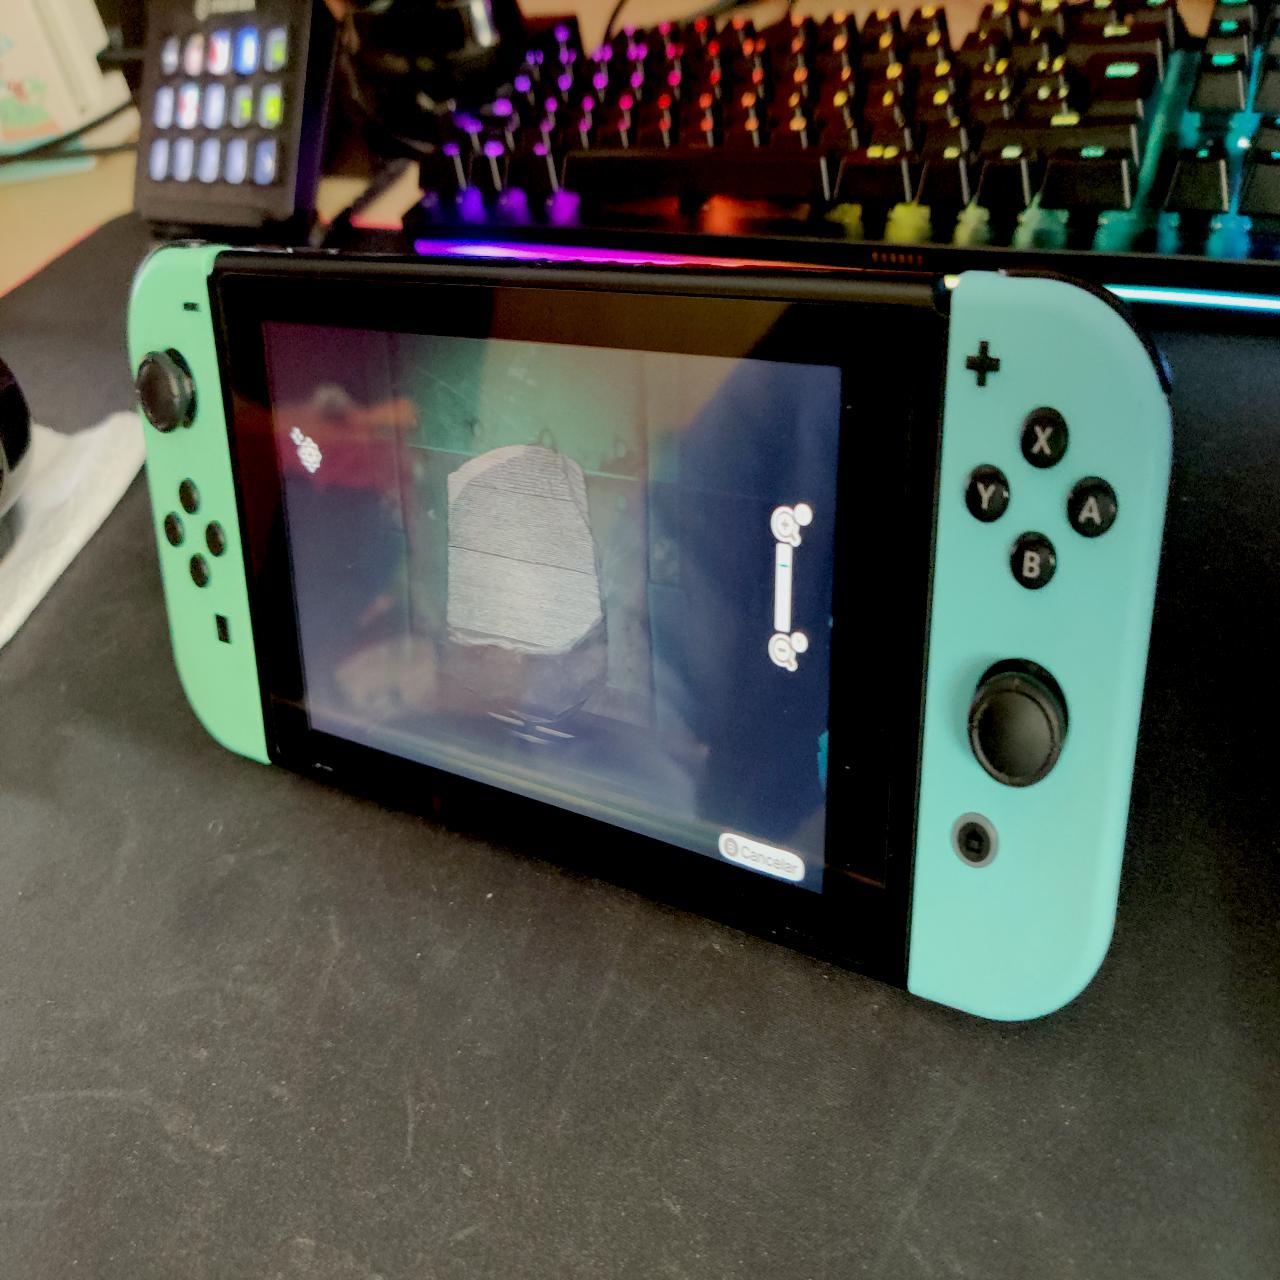RosettaStone: (440, 434, 620, 747)
